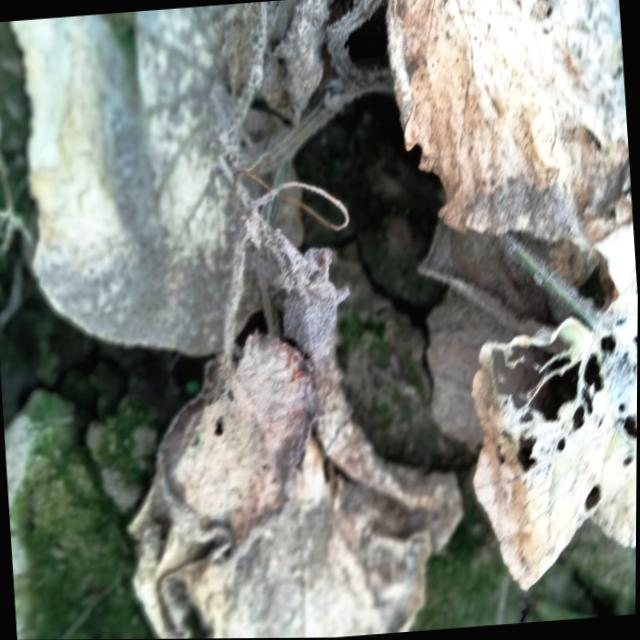Bacterial-Wilt: (7, 0, 348, 368), (112, 314, 473, 639), (378, 0, 635, 260)
